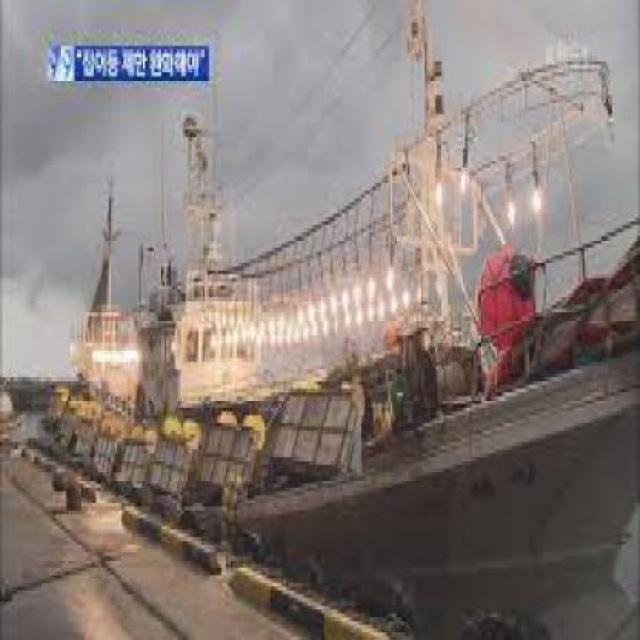fish-b: (45, 1, 639, 639)
